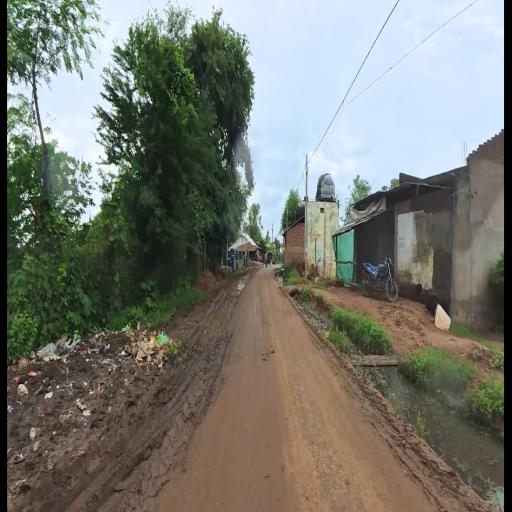drainage_issue: (282, 275, 498, 489)
